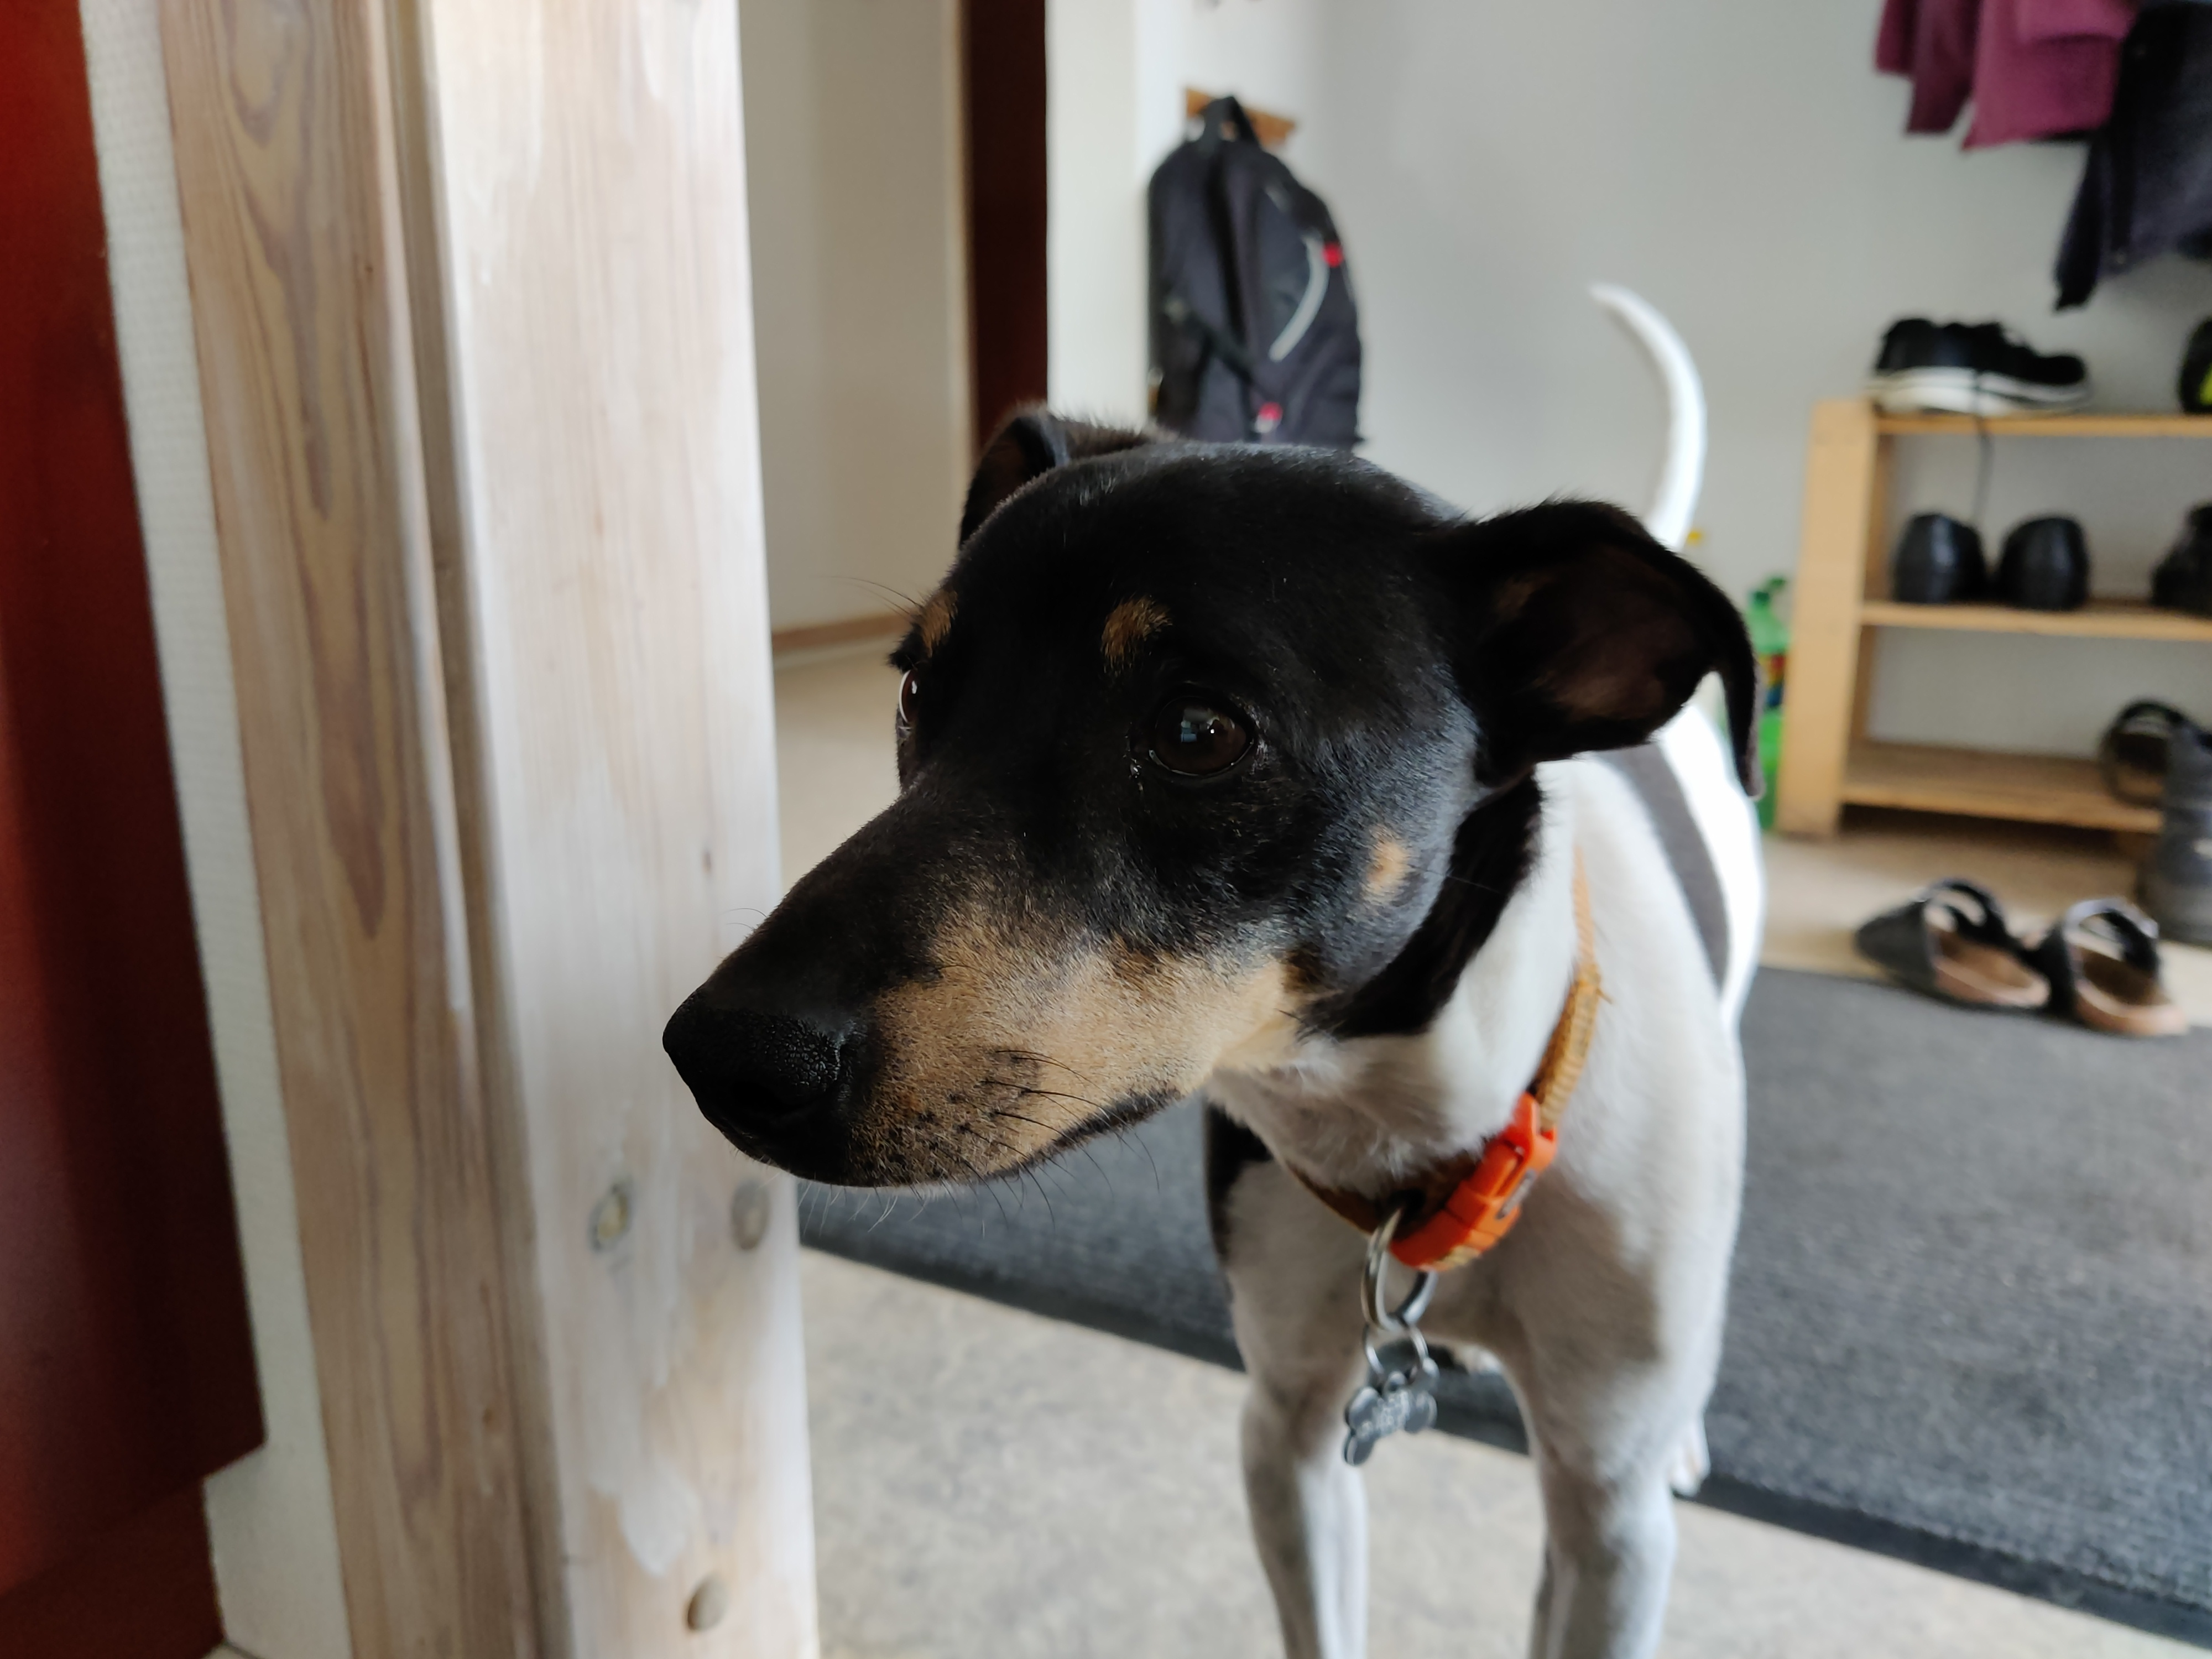Dog: (643, 256, 1780, 1659)
